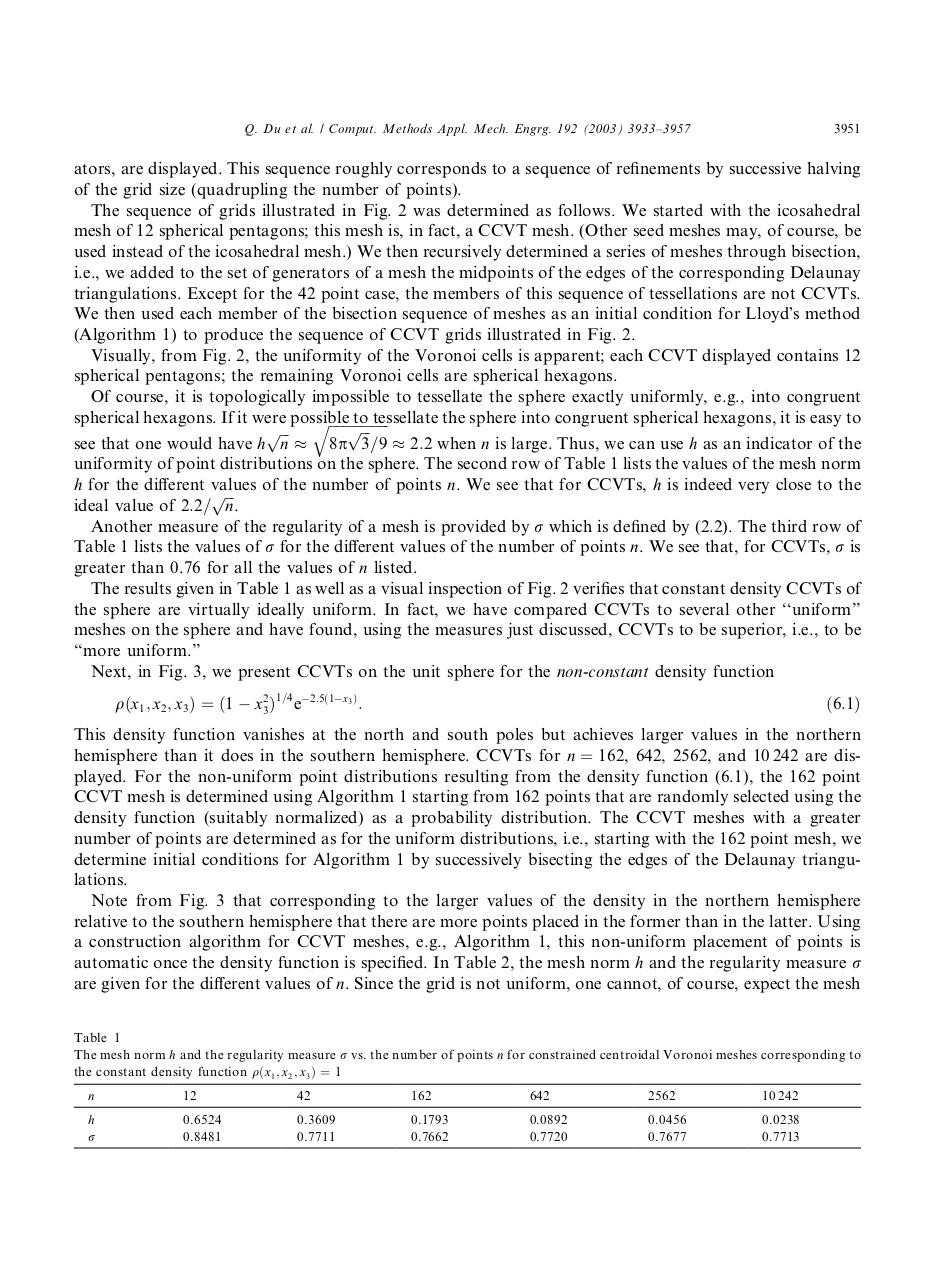Table: (73, 1083, 860, 1148)
formula: (115, 691, 858, 715)
